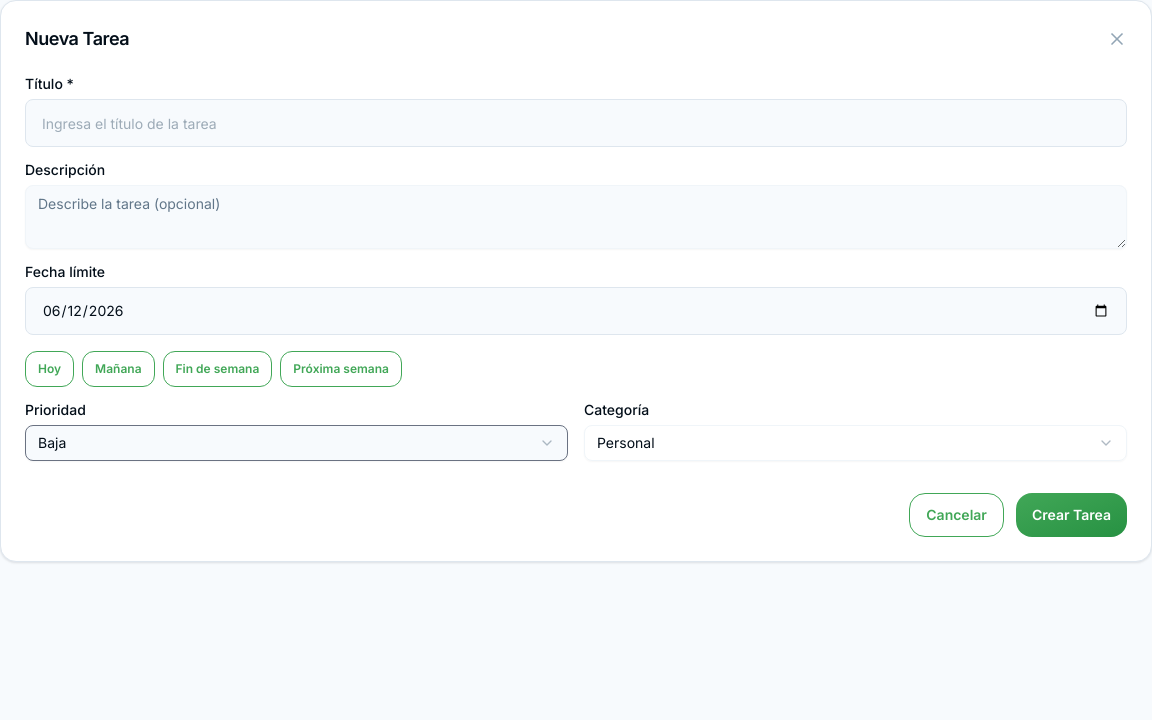
Test case: TaskForm – Pruebas Unitarias Gestión de Tareas › TSK03 – Muestra error cuando la fecha límite es anterior a hoy
Type "Tarea vencida" into the field with placeholder "Ingresa el título de la tarea" at (576, 123), box x1=25 y1=99 x2=1127 y2=147
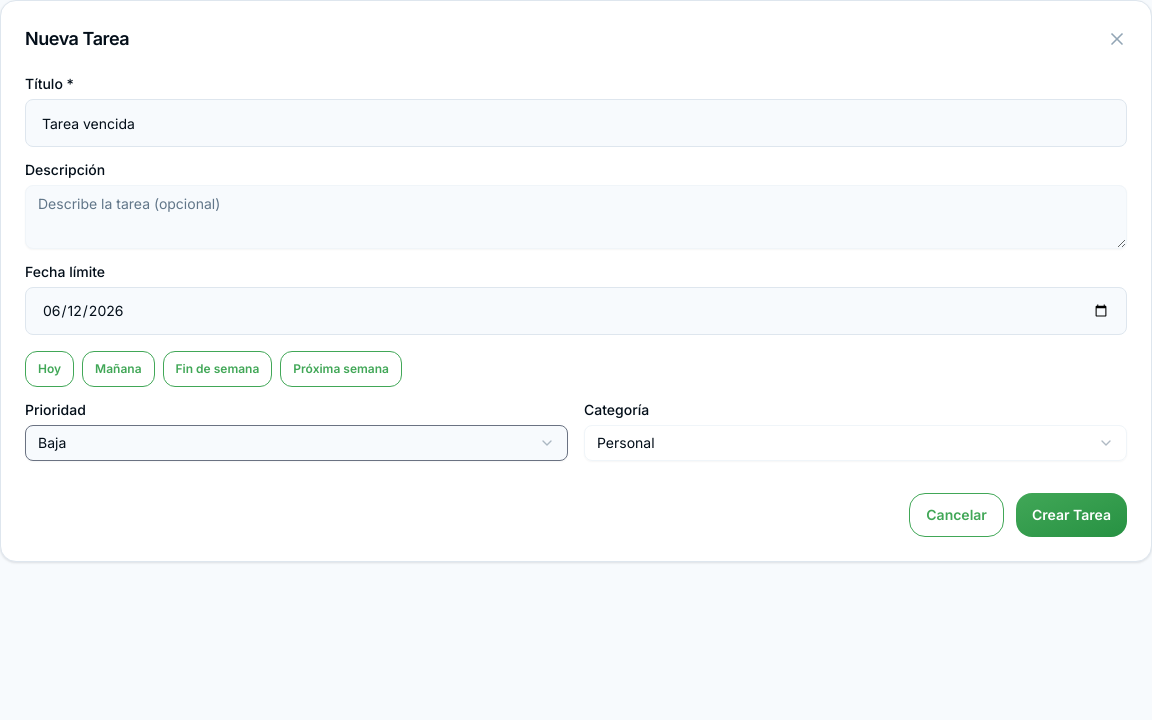
Type "2020-01-01" into the date field at (576, 311), box x1=25 y1=287 x2=1127 y2=335
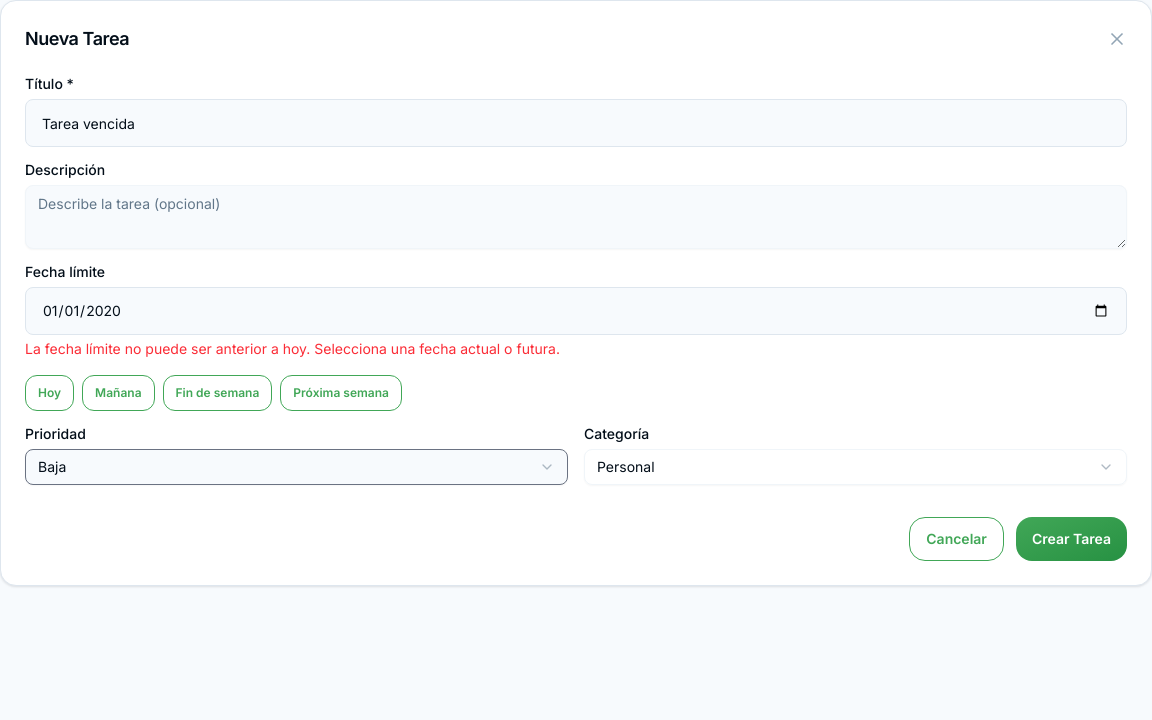
Expected: the text "La fecha límite no puede ser anterior a hoy. Selecciona una fecha actual o futura." is shown, x1=25 y1=340 x2=560 y2=357
